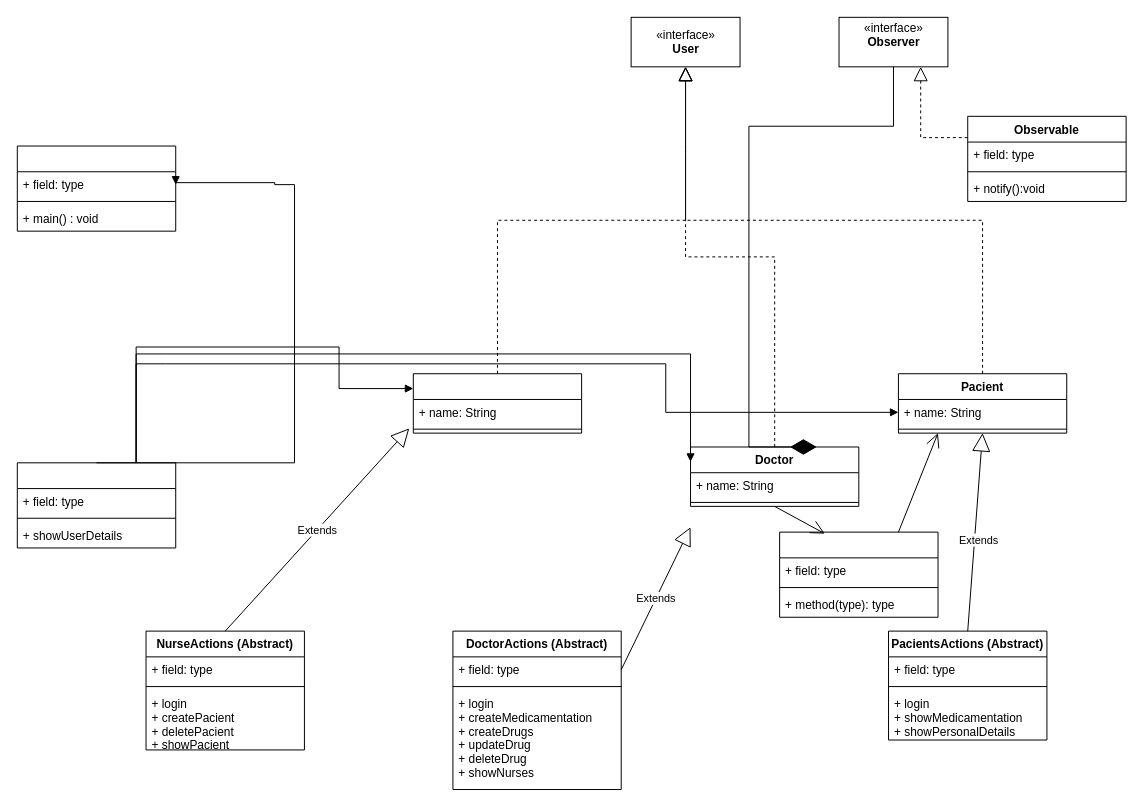
This 1143x810 diagram has some shape labels left out. Here are the shapes that lost their labels. From the top down, the box of each, then its label:
(16, 145, 176, 231): FactoryPatternClass
(412, 373, 582, 433): Assistant
(16, 462, 176, 548): UserFactory
(779, 531, 938, 617): Appointment
